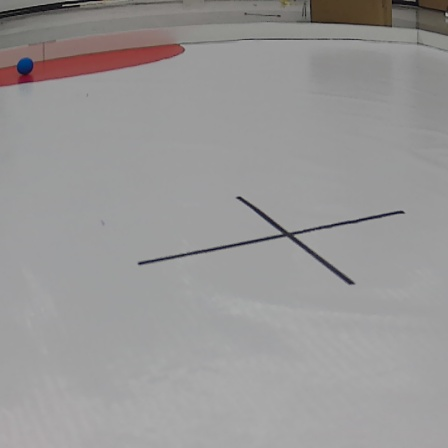blue: (17, 58, 35, 75)
red_base: (0, 43, 188, 85)
